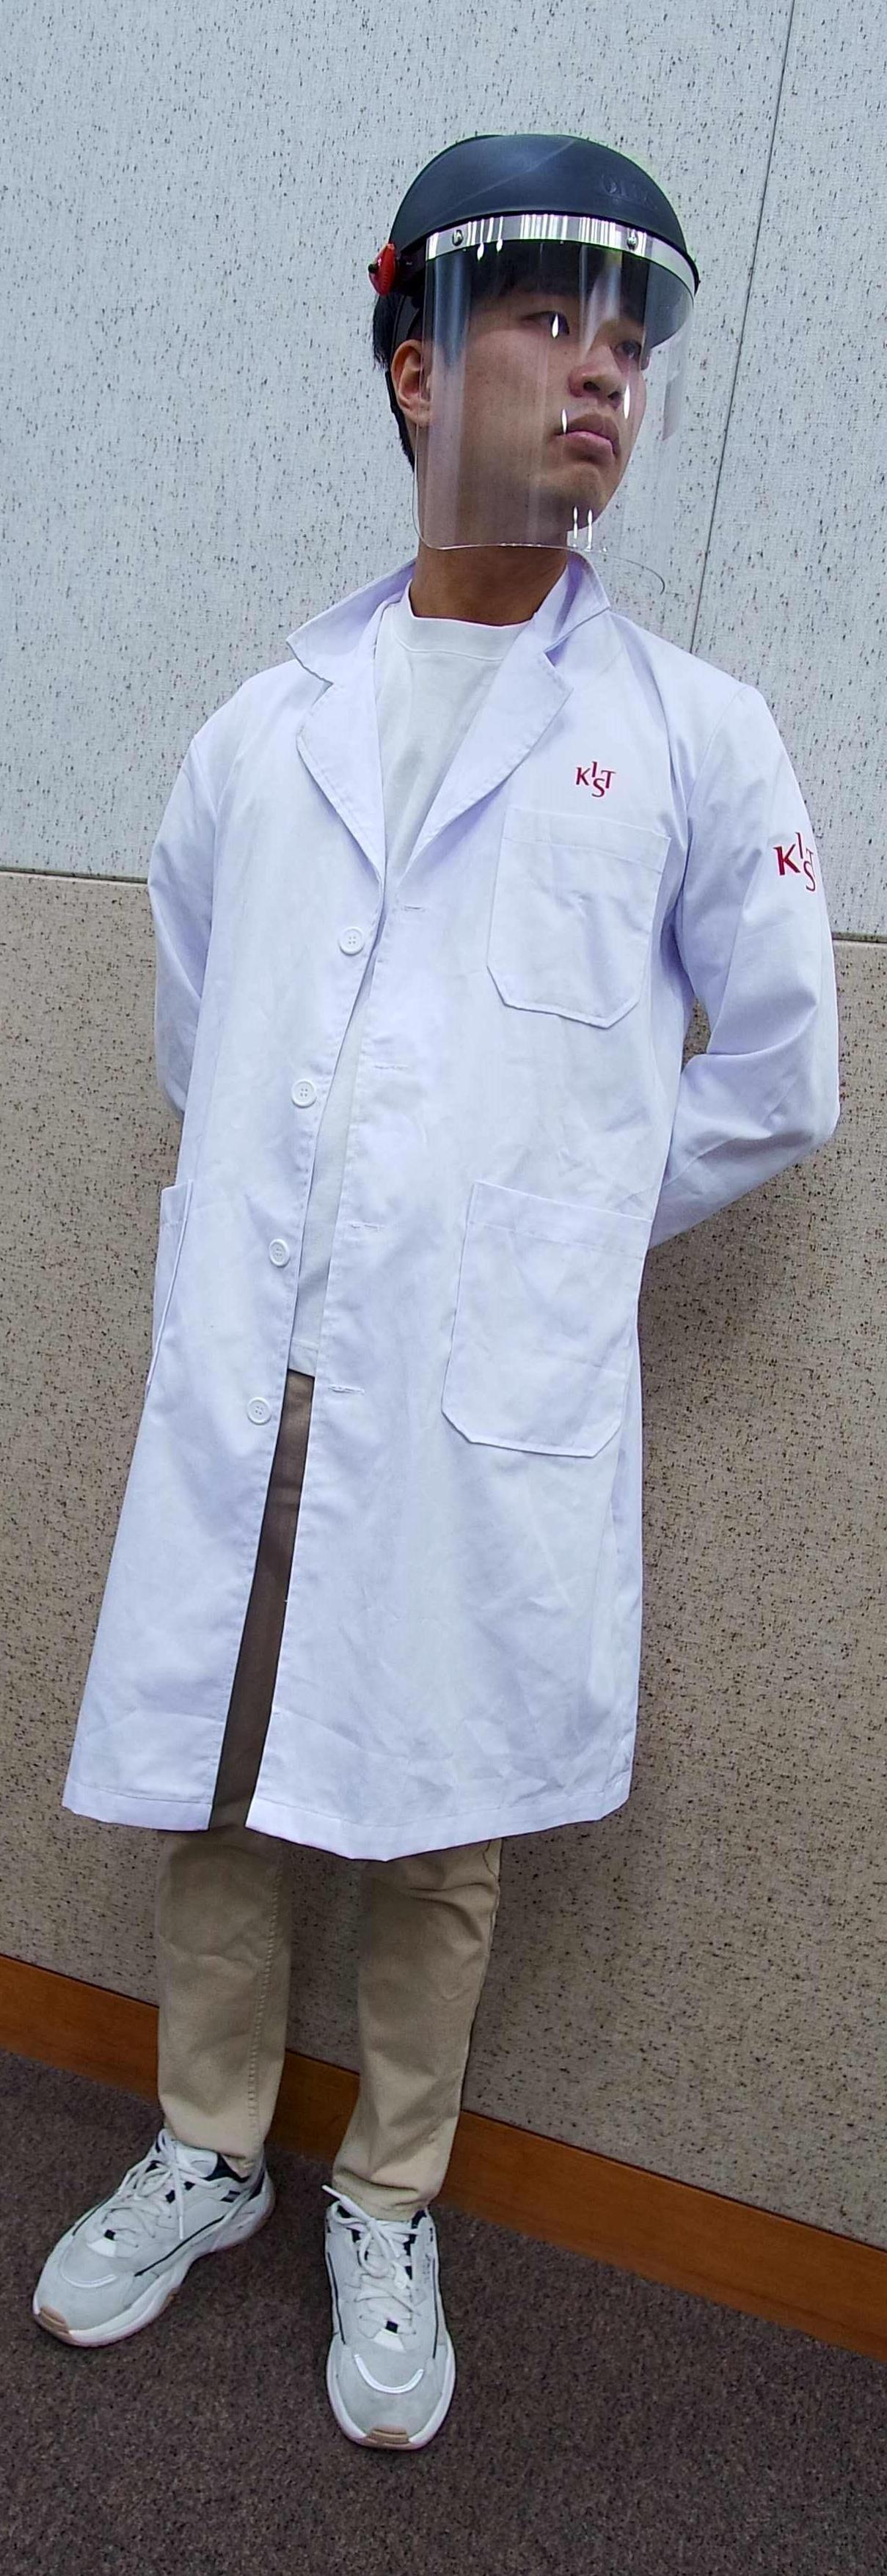lab_coat: (133, 654, 683, 1907)
